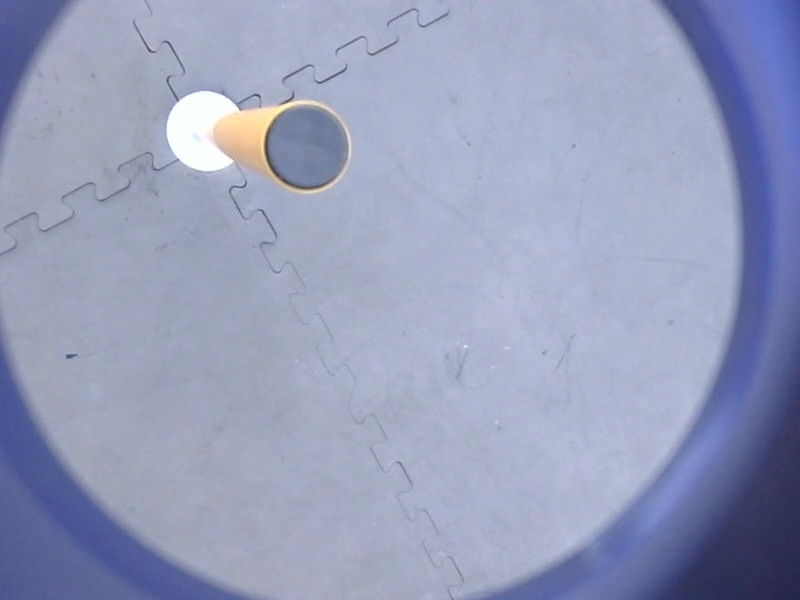tip: (260, 94, 359, 198)
